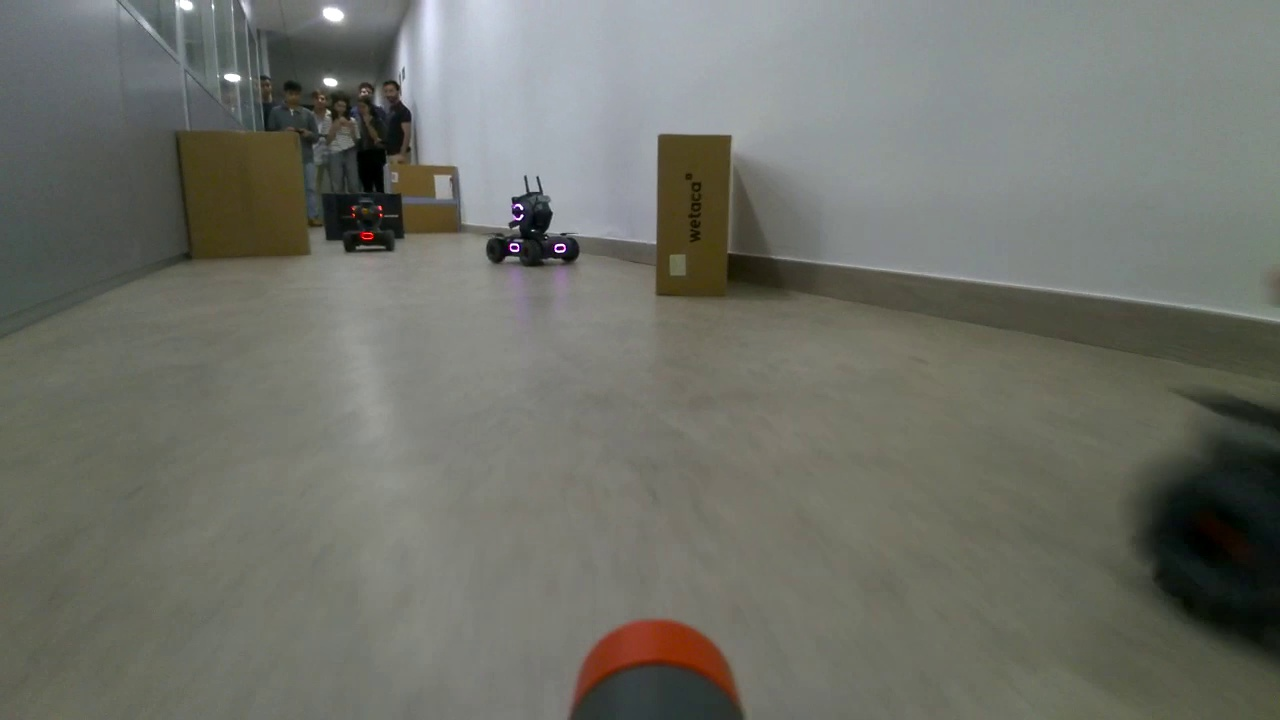robot: (483, 191, 578, 270), (342, 198, 395, 256)
